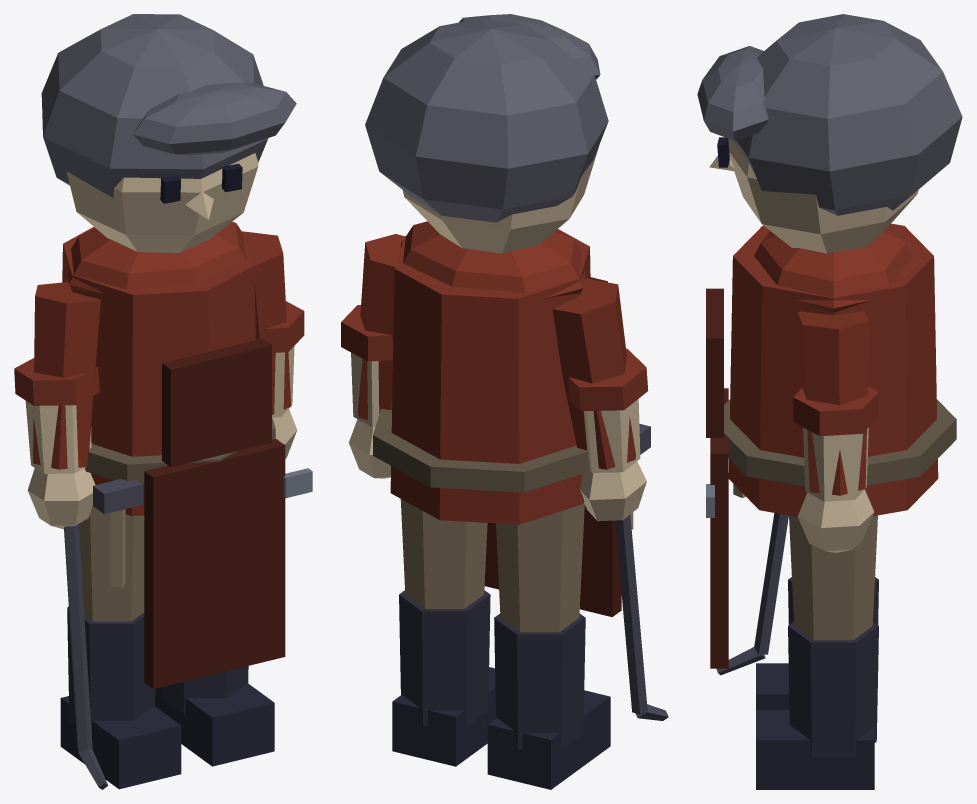
File: jory.glb
3 renders of one model, left to right at view 1: azimuth 30°, elevation 25°; view 2: azimuth 150°, elevation 25°; view 3: azimuth 270°, elevation 25°, orthographic. The views are drawn at different scales.
Parts seen in each view (by area): view 1: Torso, Head, ArmR, LegR, LegL, ArmL; view 2: Torso, Head, LegR, LegL, ArmR, ArmL; view 3: Torso, Head, LegL, ArmL, ArmR, LegR.
Boxes of the visible parts, x1=… form: Torso: x1=62, y1=221, x2=312, y2=688; Head: x1=41, y1=14, x2=296, y2=252; ArmR: x1=14, y1=282, x2=108, y2=789; LegR: x1=60, y1=505, x2=181, y2=789; LegL: x1=155, y1=666, x2=274, y2=766; ArmL: x1=242, y1=231, x2=304, y2=458; Torso: x1=373, y1=221, x2=650, y2=617; Head: x1=365, y1=14, x2=608, y2=253; LegR: x1=487, y1=503, x2=610, y2=789; LegL: x1=392, y1=499, x2=495, y2=766; ArmR: x1=552, y1=278, x2=668, y2=720; ArmL: x1=341, y1=234, x2=404, y2=478; Torso: x1=706, y1=223, x2=956, y2=668; Head: x1=697, y1=14, x2=962, y2=253; LegL: x1=756, y1=515, x2=878, y2=789; ArmL: x1=793, y1=311, x2=878, y2=552; ArmR: x1=716, y1=513, x2=788, y2=675; LegR: x1=756, y1=577, x2=878, y2=709.
Bounding box in the file's own units: 0.7432 × 1.82 × 0.6054.
